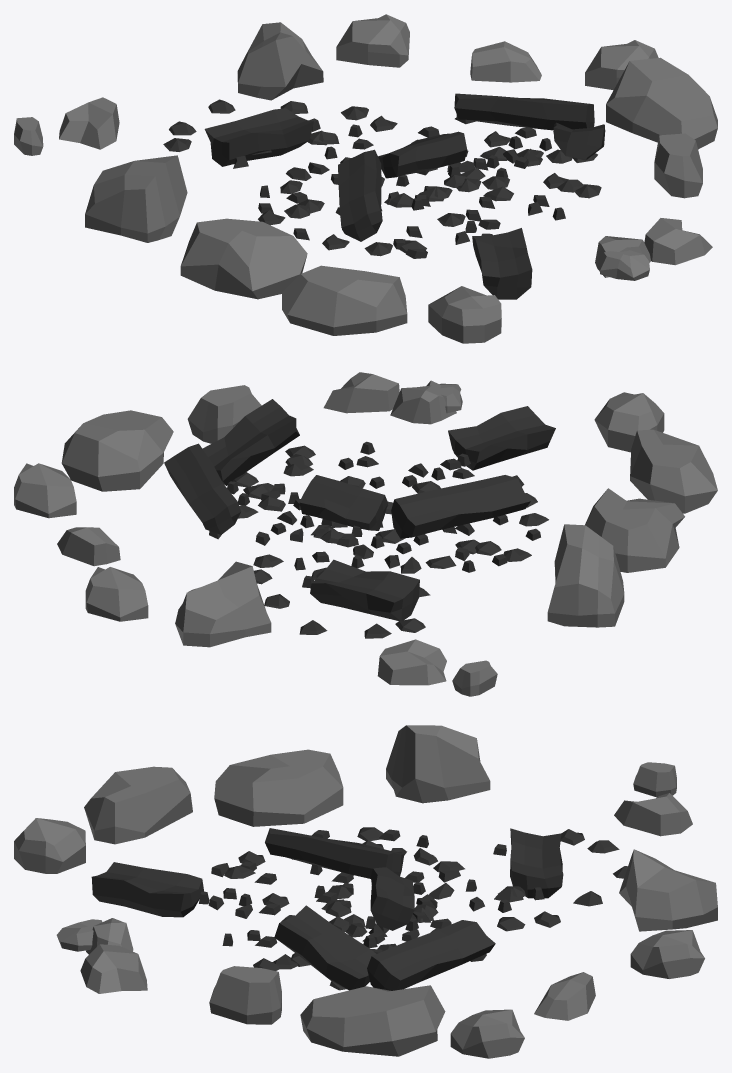
File: Bonfire3.fbx
The picture shows the model from 3 angles, top to bottom: view 1: azimuth 30°, elevation 25°; view 2: azimuth 150°, elevation 25°; view 3: azimuth 270°, elevation 25°; orthographic projection. The views are drawn at different scales.
Visible parts, largest first — view 1: Bonfire.002; view 2: Bonfire.002; view 3: Bonfire.002.
Part boxes in pixels (x1,y1,x2,y2): Bonfire.002: (14,14,717,343); Bonfire.002: (14,372,717,696); Bonfire.002: (14,725,717,1058).
Bounding box in the file's own units: 140 × 17.99 × 143.
